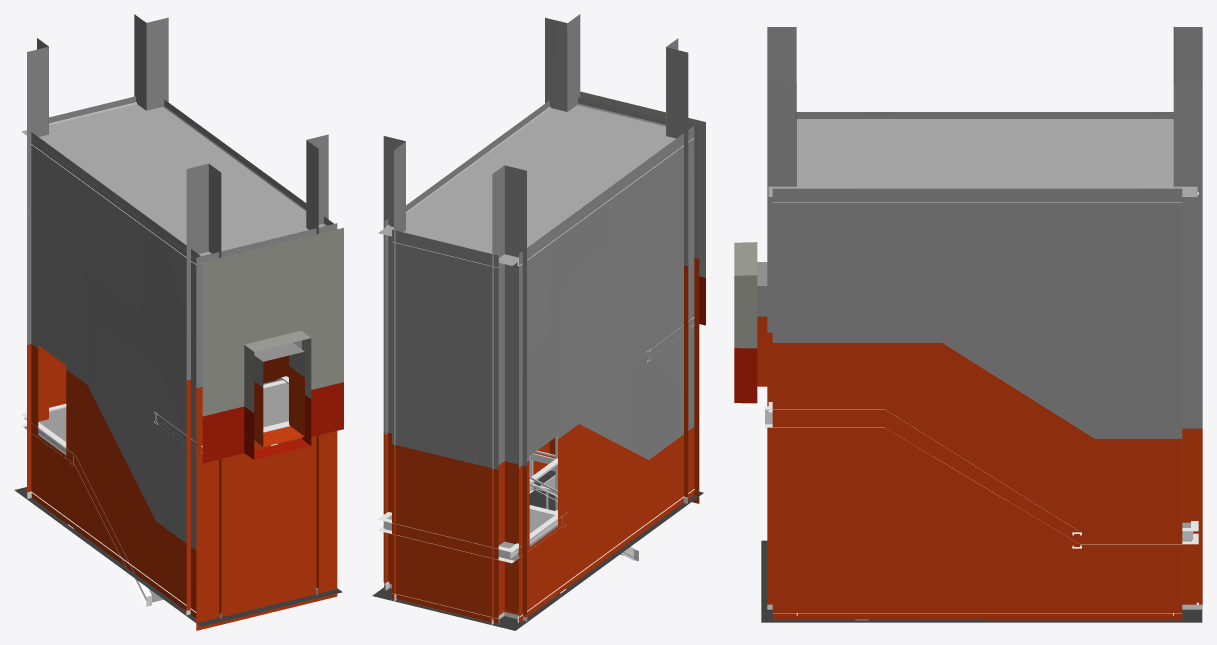
The model's file is SM_H_Building_Tide_Loungehall_16_ATLAS.fbx.
The picture shows the model from 3 angles, left to right: view 1: azimuth 30°, elevation 25°; view 2: azimuth 150°, elevation 25°; view 3: azimuth 270°, elevation 25°; orthographic projection. The views are drawn at different scales.
Visible parts, largest first — view 1: SM_H_Building_Tide_Loungehall_16_ATLAS; view 2: SM_H_Building_Tide_Loungehall_16_ATLAS; view 3: SM_H_Building_Tide_Loungehall_16_ATLAS.
Part boxes in pixels (<box>): SM_H_Building_Tide_Loungehall_16_ATLAS: <box>14,14,343,630</box>; SM_H_Building_Tide_Loungehall_16_ATLAS: <box>372,14,705,630</box>; SM_H_Building_Tide_Loungehall_16_ATLAS: <box>734,27,1202,622</box>.
Size of the model in its own units: 467 by 1125 by 1475.
